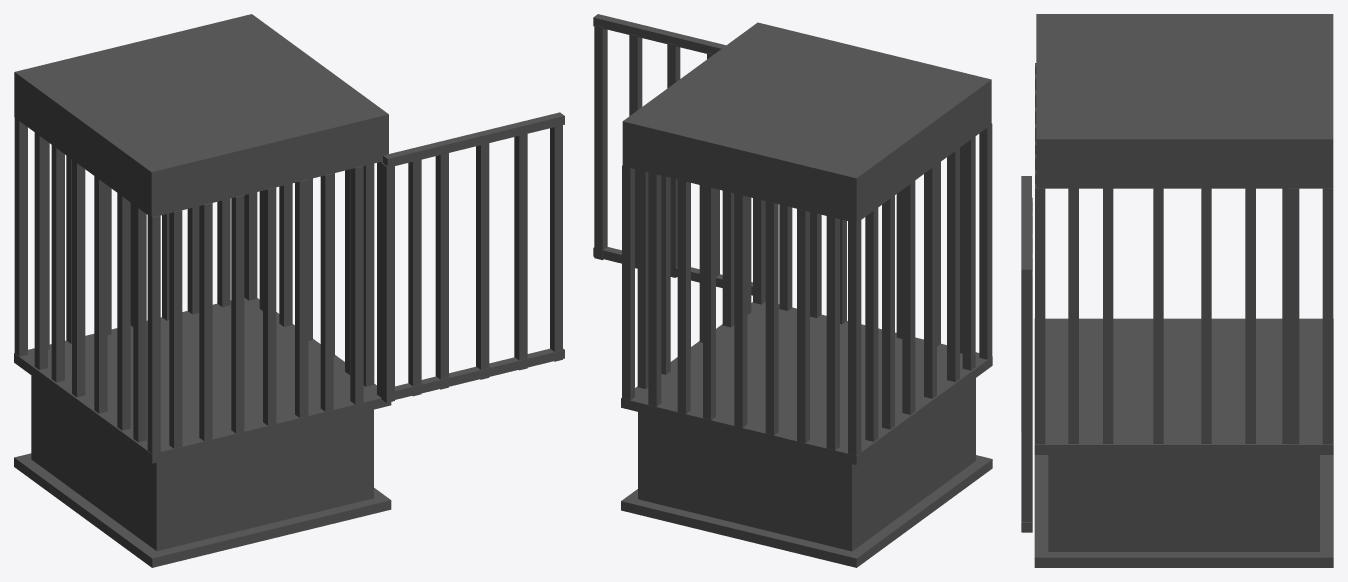
The model's file is Jail.fbx.
The picture shows the model from 3 angles, left to right: view 1: azimuth 30°, elevation 25°; view 2: azimuth 150°, elevation 25°; view 3: azimuth 270°, elevation 25°; orthographic projection. The views are drawn at different scales.
Visible parts, largest first — view 1: Jail, Door; view 2: Jail, Door, OpenJail; view 3: Jail, OpenJail, Door.
Boxes of the visible parts, <box> form: Jail: <box>14,14,391,567</box>; Door: <box>381,112,564,402</box>; Jail: <box>621,22,992,567</box>; Door: <box>593,14,752,295</box>; OpenJail: <box>622,166,648,399</box>; Jail: <box>1034,14,1333,567</box>; OpenJail: <box>1288,188,1333,444</box>; Door: <box>1021,176,1032,532</box>.
Size of the model in its own units: 374 by 347 by 230.
